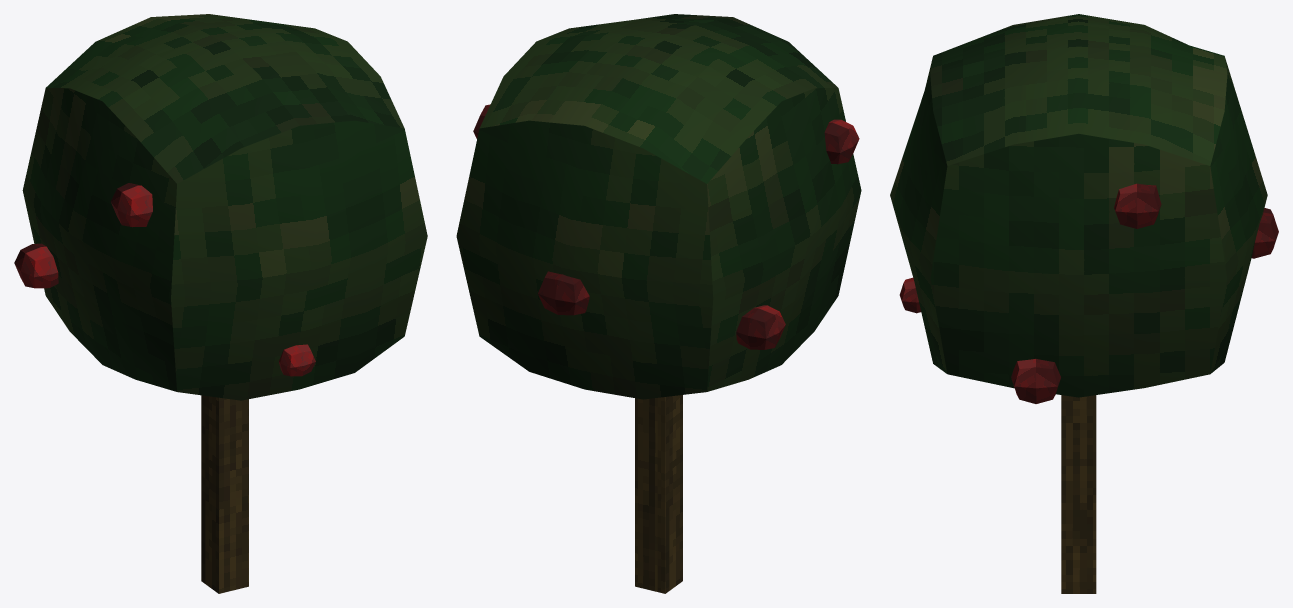
Rendered from Tree_1.fbx.
3 renders of one model, left to right at view 1: azimuth 30°, elevation 25°; view 2: azimuth 150°, elevation 25°; view 3: azimuth 270°, elevation 25°, orthographic.
Visible parts, largest first — view 1: Tree_1; view 2: Tree_1; view 3: Tree_1.
Boxes of the visible parts, x1=… form: Tree_1: x1=14, y1=14, x2=427, y2=593; Tree_1: x1=456, y1=14, x2=861, y2=593; Tree_1: x1=890, y1=14, x2=1278, y2=593.
Bounding box in the file's own units: 56.49 × 91.82 × 59.89.
